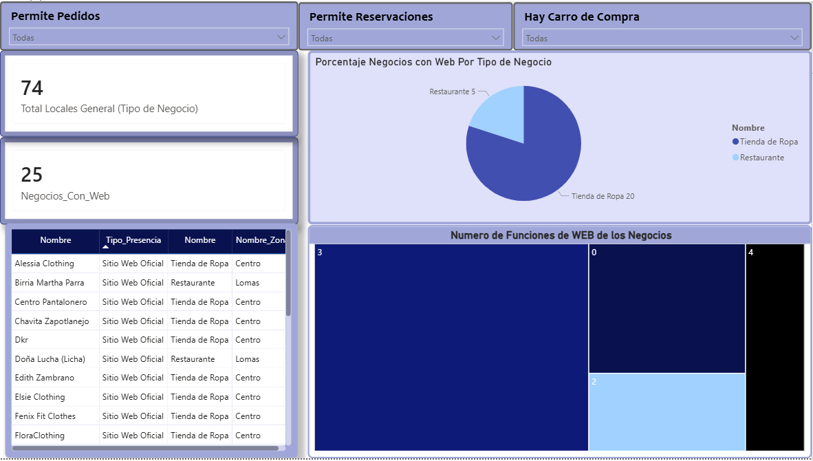

This screenshot's page, from the dashboard's own definition file:
{"tool":"powerbi","page":{"name":"WEB","canvas":[1280,720],"ordinal":1},"visuals":[{"type":"cardVisual","fields":{"Data":["_Medidas.Negocios_Con_Web"]},"box":[0,214.1,470.8,137.9],"z":0},{"type":"cardVisual","fields":{"Data":["_Medidas.Total_Locales"]},"box":[0,77.7,470.8,136.4],"z":1000},{"type":"slicer","title":"Holi","fields":{"Values":["Atributos_Web.PermitePedidos"]},"box":[0,0,470.8,77.7],"z":2000},{"type":"slicer","title":"Holi","fields":{"Values":["Atributos_Web.PermiteReservaciones"]},"box":[470.8,1.5,338.8,76.3],"z":3000},{"type":"slicer","title":"Holi","fields":{"Values":["Presencia Posicionamiento Digital.Nivel_Presencia_RS"]},"box":[809.5,1.5,470.8,76.3],"z":4000},{"type":"pieChart","title":"Porcentaje Negocios con Web Por Tipo de Negocio","fields":{"Category":["TipoNegocio.Nombre"],"Y":["_Medidas.Negocios_Con_Web"]},"box":[485.4,77.7,794.9,274.2],"z":5000},{"type":"tableEx","fields":{"Values":["Establecimiento.Nombre","Atributos_Web.Tipo_Presencia","TipoNegocio.Nombre","Geografia.Nombre_Zona"]},"box":[8.8,350.5,462,369.6],"z":6000},{"type":"treemap","title":"Numero de Funciones de WEB de los Negocios","fields":{"Group":["Atributos_Web.Nivel_Funciones_Web"],"Values":["_Medidas.Negocios_Con_Web"]},"box":[485.4,352,794.9,368.1],"z":7000}]}

Visuals, with their boxes in screenshot pixels (x1, y1, x2, y2), scaled from the page's 1280x720 canvas onto the 813x461 screenshot:
cardVisual - _Medidas.Negocios_Con_Web: rect(0, 137, 299, 225)
cardVisual - _Medidas.Total_Locales: rect(0, 50, 299, 137)
"Holi" slicer: rect(0, 0, 299, 50)
"Holi" slicer: rect(299, 1, 514, 50)
"Holi" slicer: rect(514, 1, 812, 50)
"Porcentaje Negocios con Web Por Tipo de Negocio" pieChart: rect(308, 50, 812, 225)
tableEx - Establecimiento.Nombre x Atributos_Web.Tipo_Presencia: rect(6, 224, 299, 460)
"Numero de Funciones de WEB de los Negocios" treemap: rect(308, 225, 812, 460)
